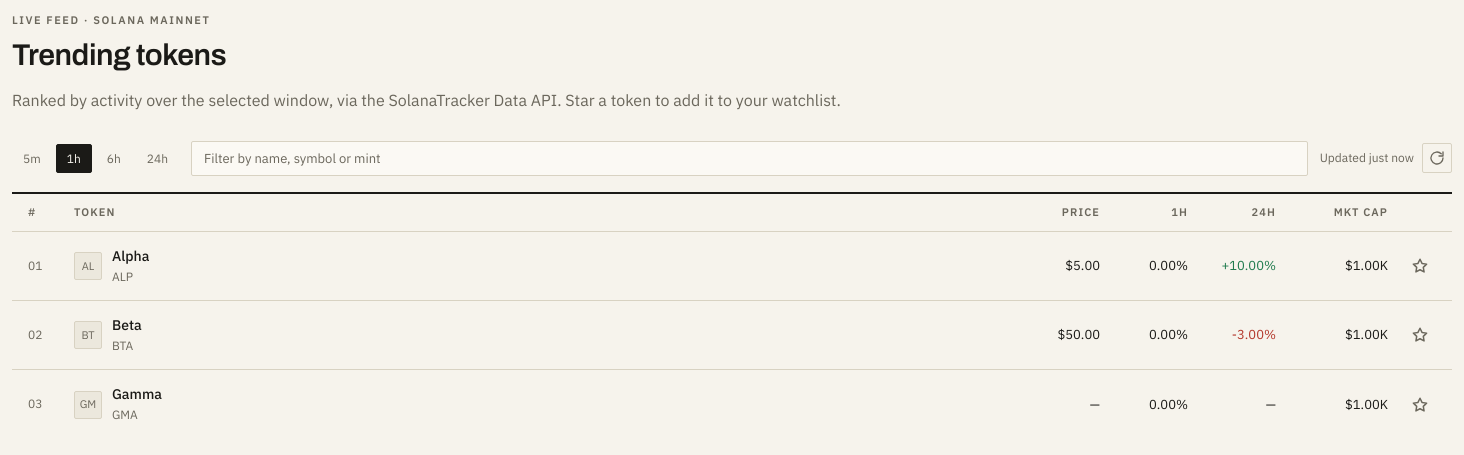
Test: Trending page › renders the ranked list, then filters and sorts it
Expected: the table named "Trending tokens" is shown, [12,192,1452,439]
Click the button "Price" at (1081, 212), box [1062,204,1100,221]
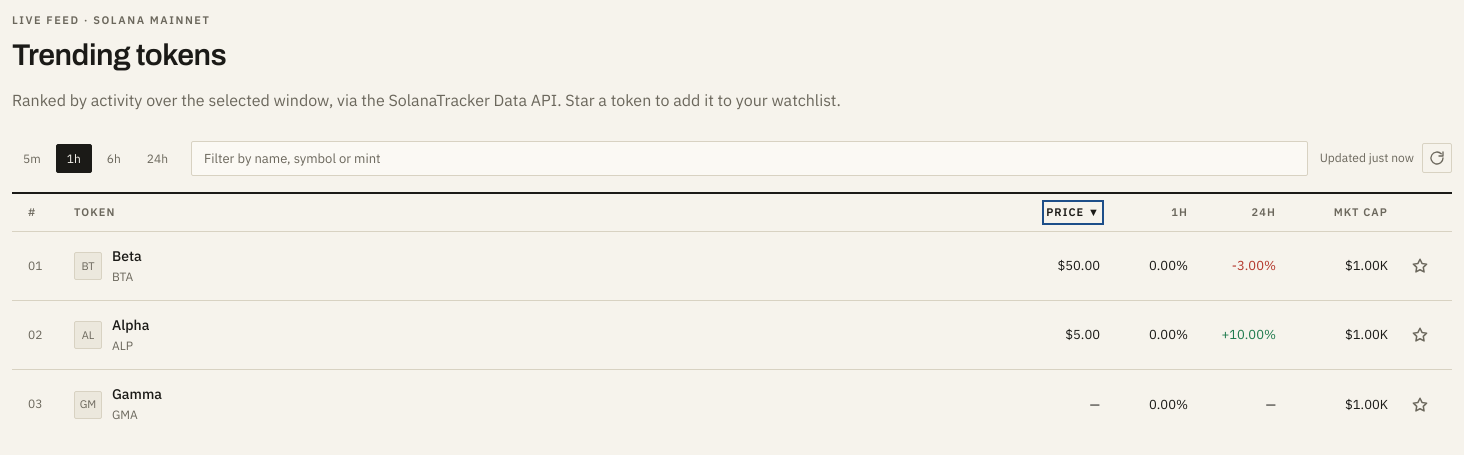
Expected: the column heading "Price ▼" has attribute aria-sort="descending"
Click the button "Price ▼" at (1073, 212), box [1046,204,1100,221]
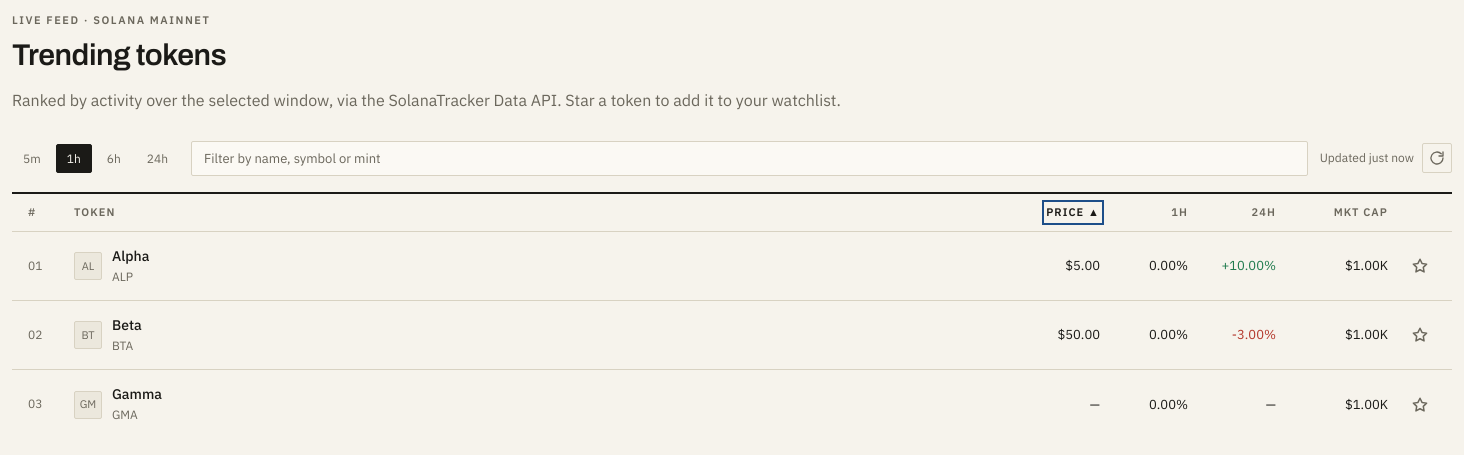
Type "bta" into the search field named "Filter tokens" at (749, 158), box [191,141,1308,176]
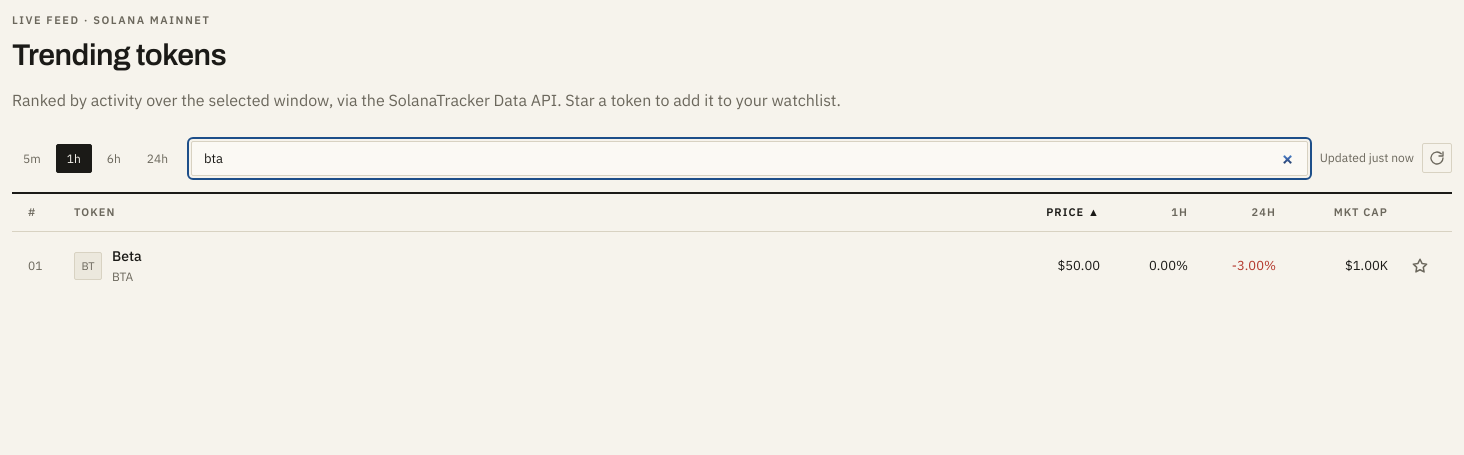
Replace the text in the search field named "Filter tokens" with "zzz" at (749, 158), box [191,141,1308,176]
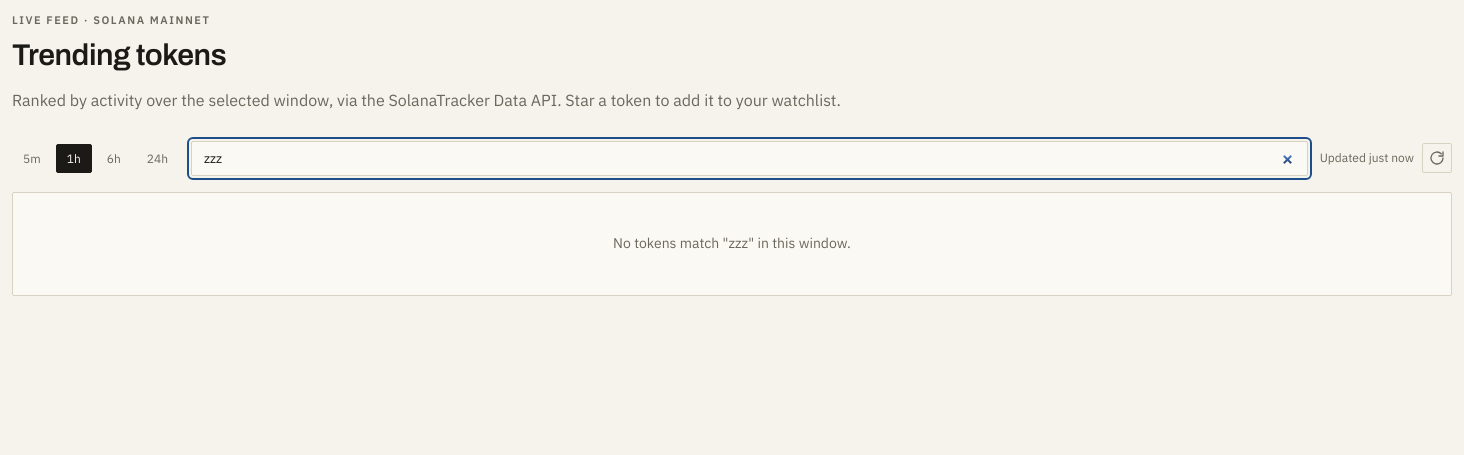
Expected: the text "No tokens match \"zzz\" in this window." is shown, [12,192,1452,296]
